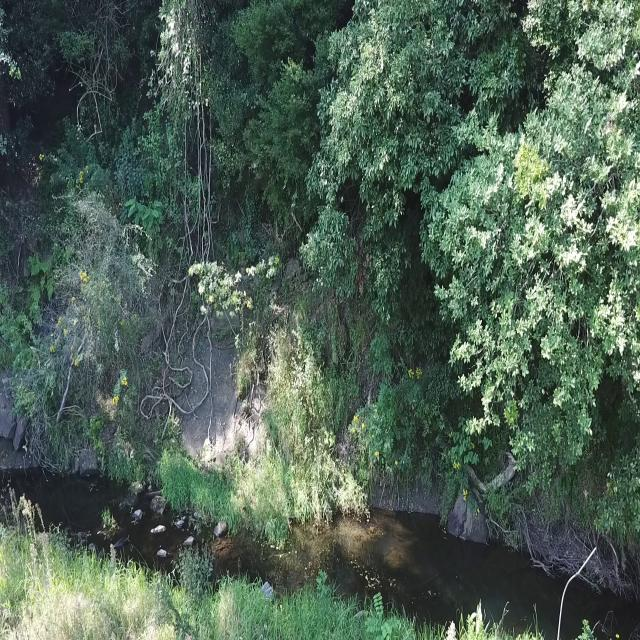Mysore-Thorn-Weed: (122, 187, 166, 243)
